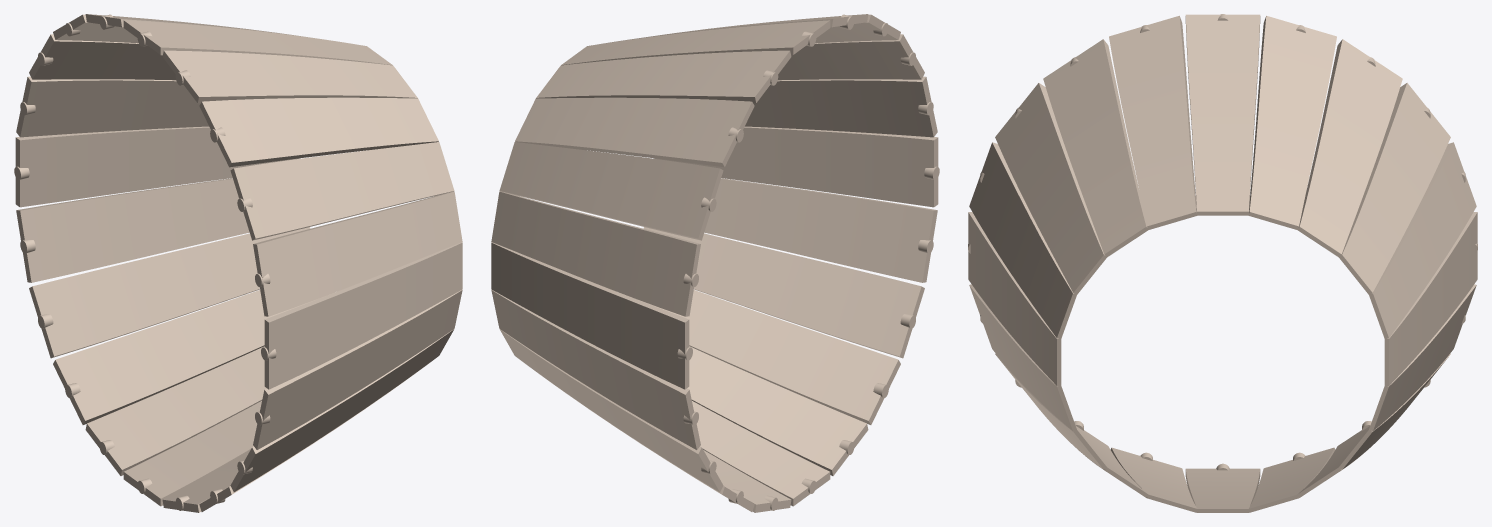
The model's file is nozzle-petals.glb.
3 views of the same model, side by side, from view 1: azimuth 30°, elevation 25°; view 2: azimuth 150°, elevation 25°; view 3: azimuth 270°, elevation 25° (orthographic).
Visible parts, largest first — view 1: nozzle-petals - heat; view 2: nozzle-petals - heat; view 3: nozzle-petals - heat.
Part boxes in pixels (x1,y1,x2,y2): nozzle-petals - heat: (14,14,462,512); nozzle-petals - heat: (491,14,939,512); nozzle-petals - heat: (968,14,1477,512).
Bounding box in the file's own units: 0.94 × 1.73 × 1.73.
